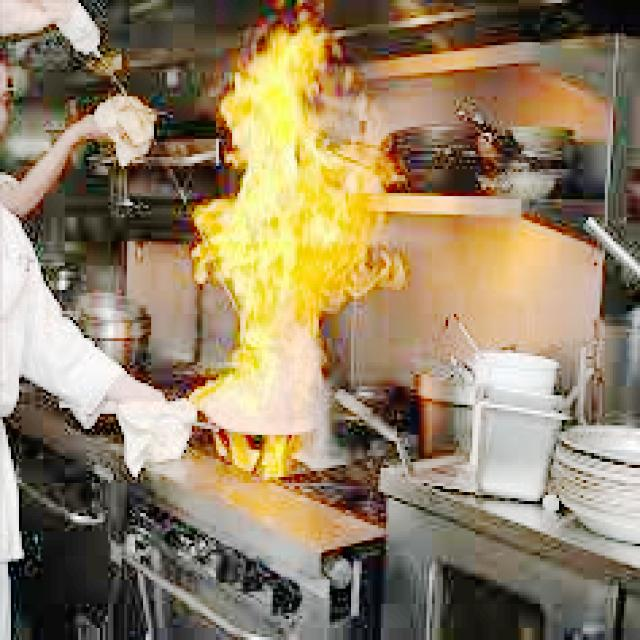api: (193, 37, 395, 484)
